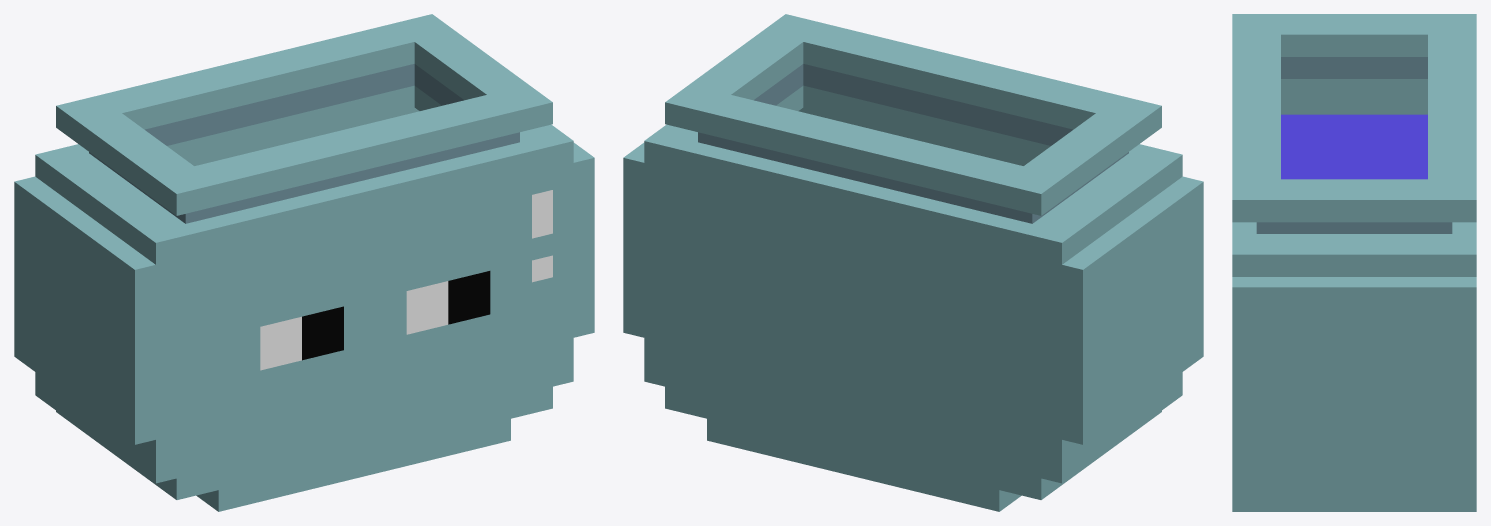
Rendered from fishbowl.glb.
3 views of the same model, side by side, from view 1: azimuth 30°, elevation 25°; view 2: azimuth 150°, elevation 25°; view 3: azimuth 270°, elevation 25° (orthographic).
Parts seen in each view (by area): view 1: base, eyes; view 2: base; view 3: base.
Boxes of the visible parts, x1,y1,x2,y2 form: base: (14,14,594,511); eyes: (260,271,490,370); base: (623,14,1203,511); base: (1232,14,1476,511).
Size of the model in its own units: 22 by 15 by 10.
Materials: 9 (9 with a texture image).
